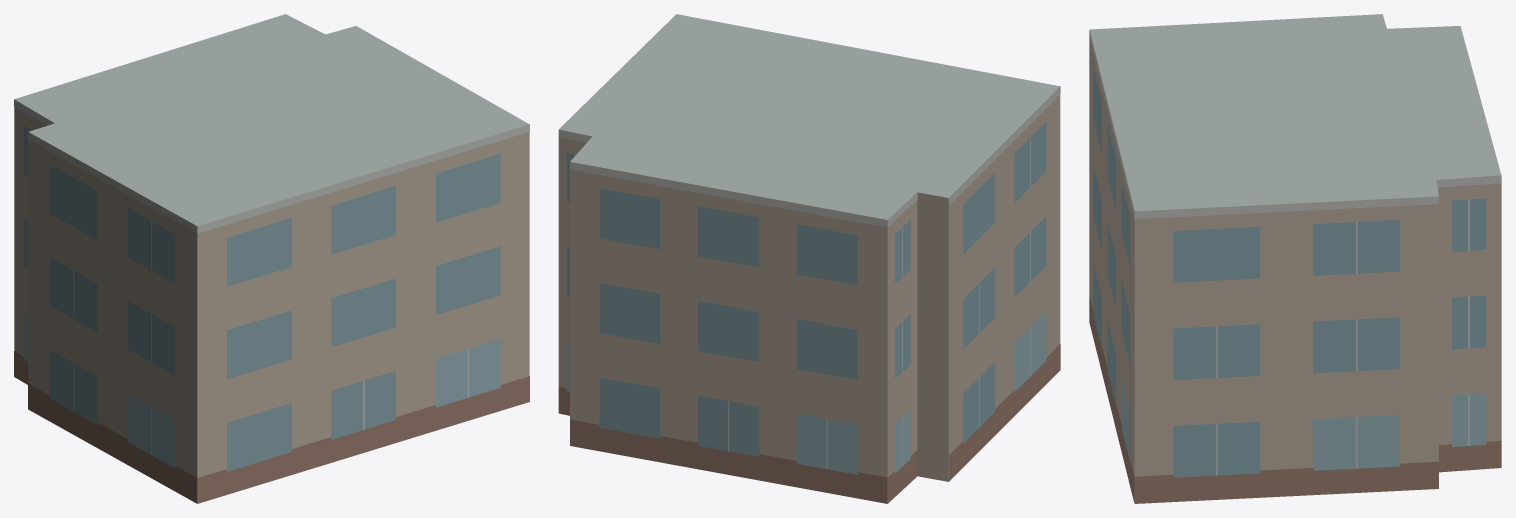
File: survey-upis-32828892.glb
3 views of the same model, side by side, from view 1: azimuth 30°, elevation 25°; view 2: azimuth 150°, elevation 25°; view 3: azimuth 270°, elevation 25° (orthographic). The views are drawn at different scales.
Visible parts, largest first — view 1: survey-upis-32828892.tmp; view 2: survey-upis-32828892.tmp; view 3: survey-upis-32828892.tmp.
Part boxes in pixels (box(x1,y1,x2,y2)): survey-upis-32828892.tmp: box(14, 14, 529, 503); survey-upis-32828892.tmp: box(558, 14, 1060, 503); survey-upis-32828892.tmp: box(1089, 14, 1501, 503).
Size of the model in its own units: 13.25 by 9.15 by 11.7.
